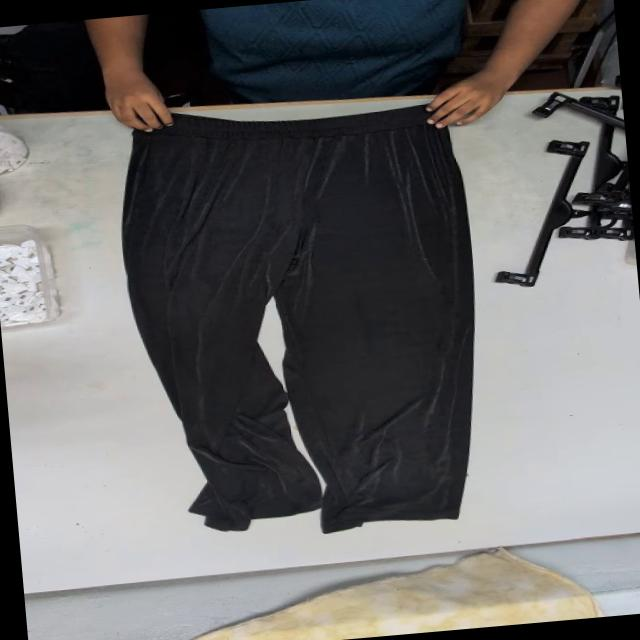new-garment: (122, 106, 473, 531)
